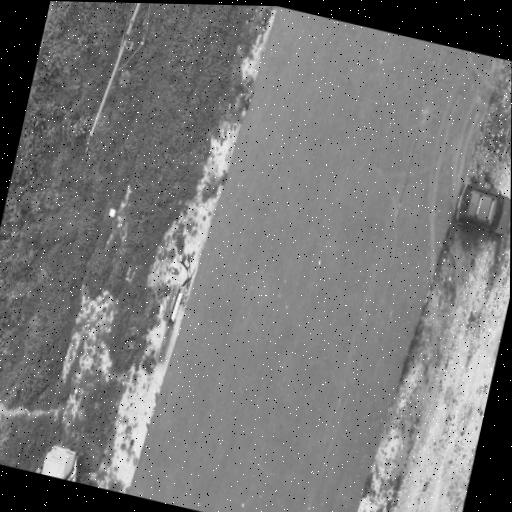car: (456, 183, 510, 235)
harvester: (37, 444, 78, 481)
